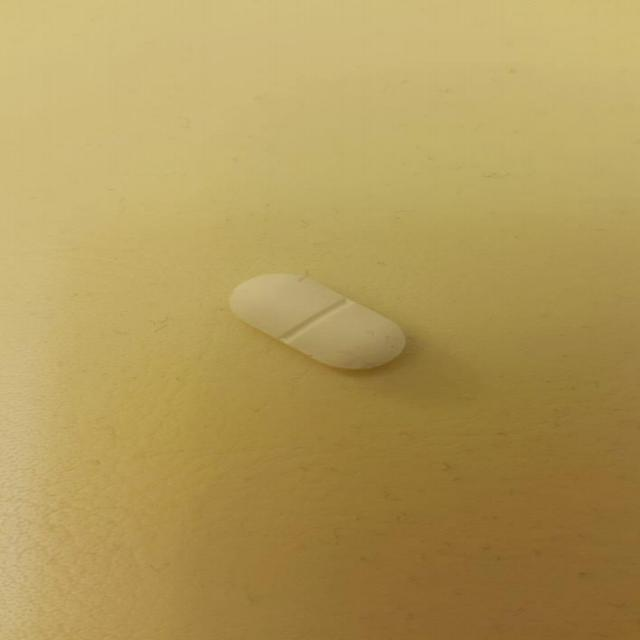pill: (228, 264, 424, 382)
